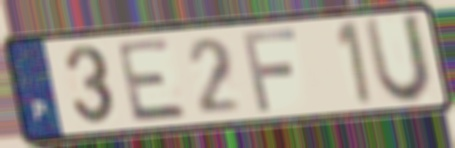1: (334, 18, 375, 108)
2: (187, 34, 244, 117)
3: (63, 42, 117, 128)
E: (113, 35, 192, 125)
F: (239, 25, 300, 115)
U: (360, 10, 436, 107)
